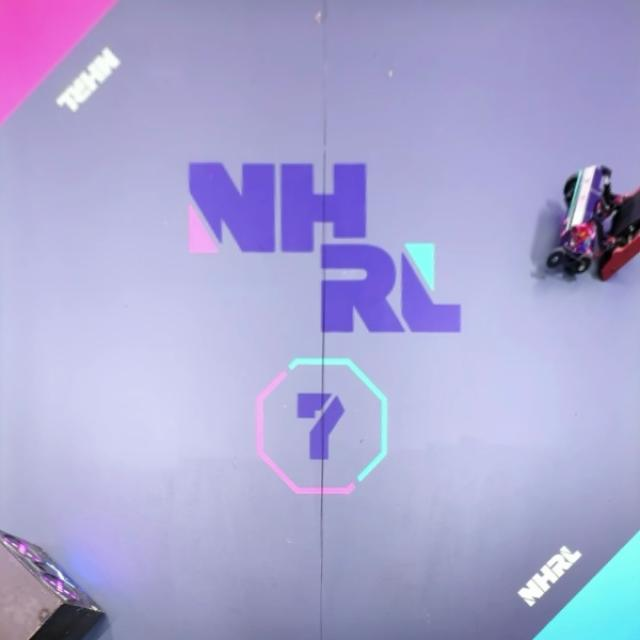housebot: (0, 528, 107, 640)
robot: (548, 164, 613, 276), (596, 190, 640, 281)
